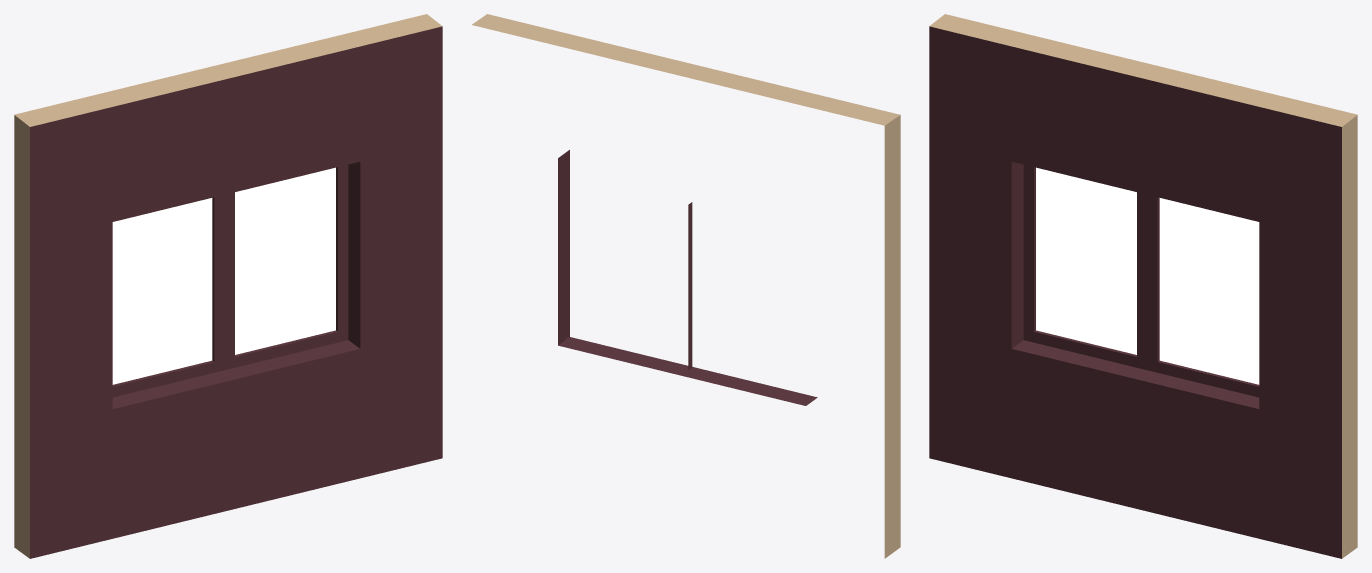
Rendered from buildings-house-wall-window-two-3x3m.glb.
The picture shows the model from 3 angles, left to right: view 1: azimuth 30°, elevation 25°; view 2: azimuth 150°, elevation 25°; view 3: azimuth 330°, elevation 25°; orthographic projection.
Visible parts, largest first — view 1: house-wall-window-two-3x3m; view 2: house-wall-window-two-3x3m; view 3: house-wall-window-two-3x3m.
Part boxes in pixels (bbox=[...]): house-wall-window-two-3x3m: bbox=[14, 14, 442, 558]; house-wall-window-two-3x3m: bbox=[472, 14, 900, 558]; house-wall-window-two-3x3m: bbox=[929, 14, 1357, 558].
Size of the model in its own units: 3 by 3.01 by 0.2.
